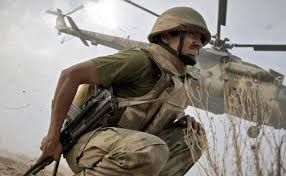uniform: (35, 2, 213, 167)
